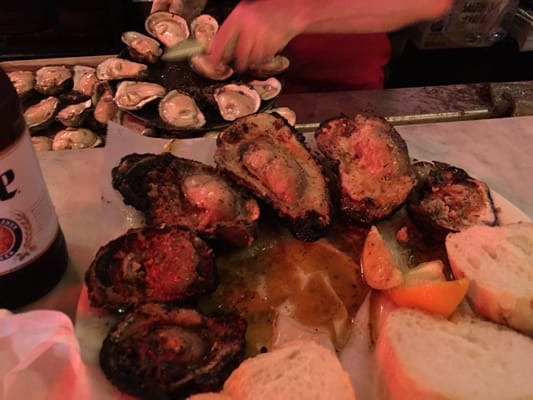burger: (0, 60, 71, 314)
curry: (0, 13, 520, 399)
pizza: (217, 339, 358, 400), (387, 279, 470, 318)
